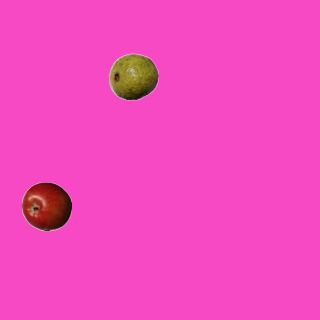Apple Braeburn: (21, 181, 71, 231)
Guava: (108, 51, 158, 101)
